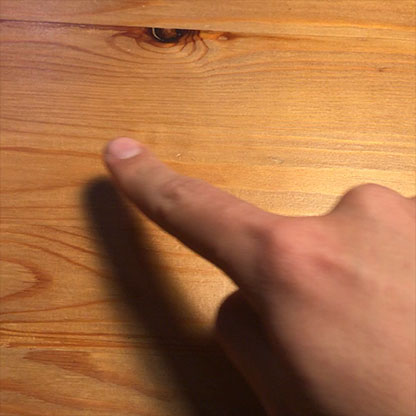fingertip: (97, 126, 154, 173)
